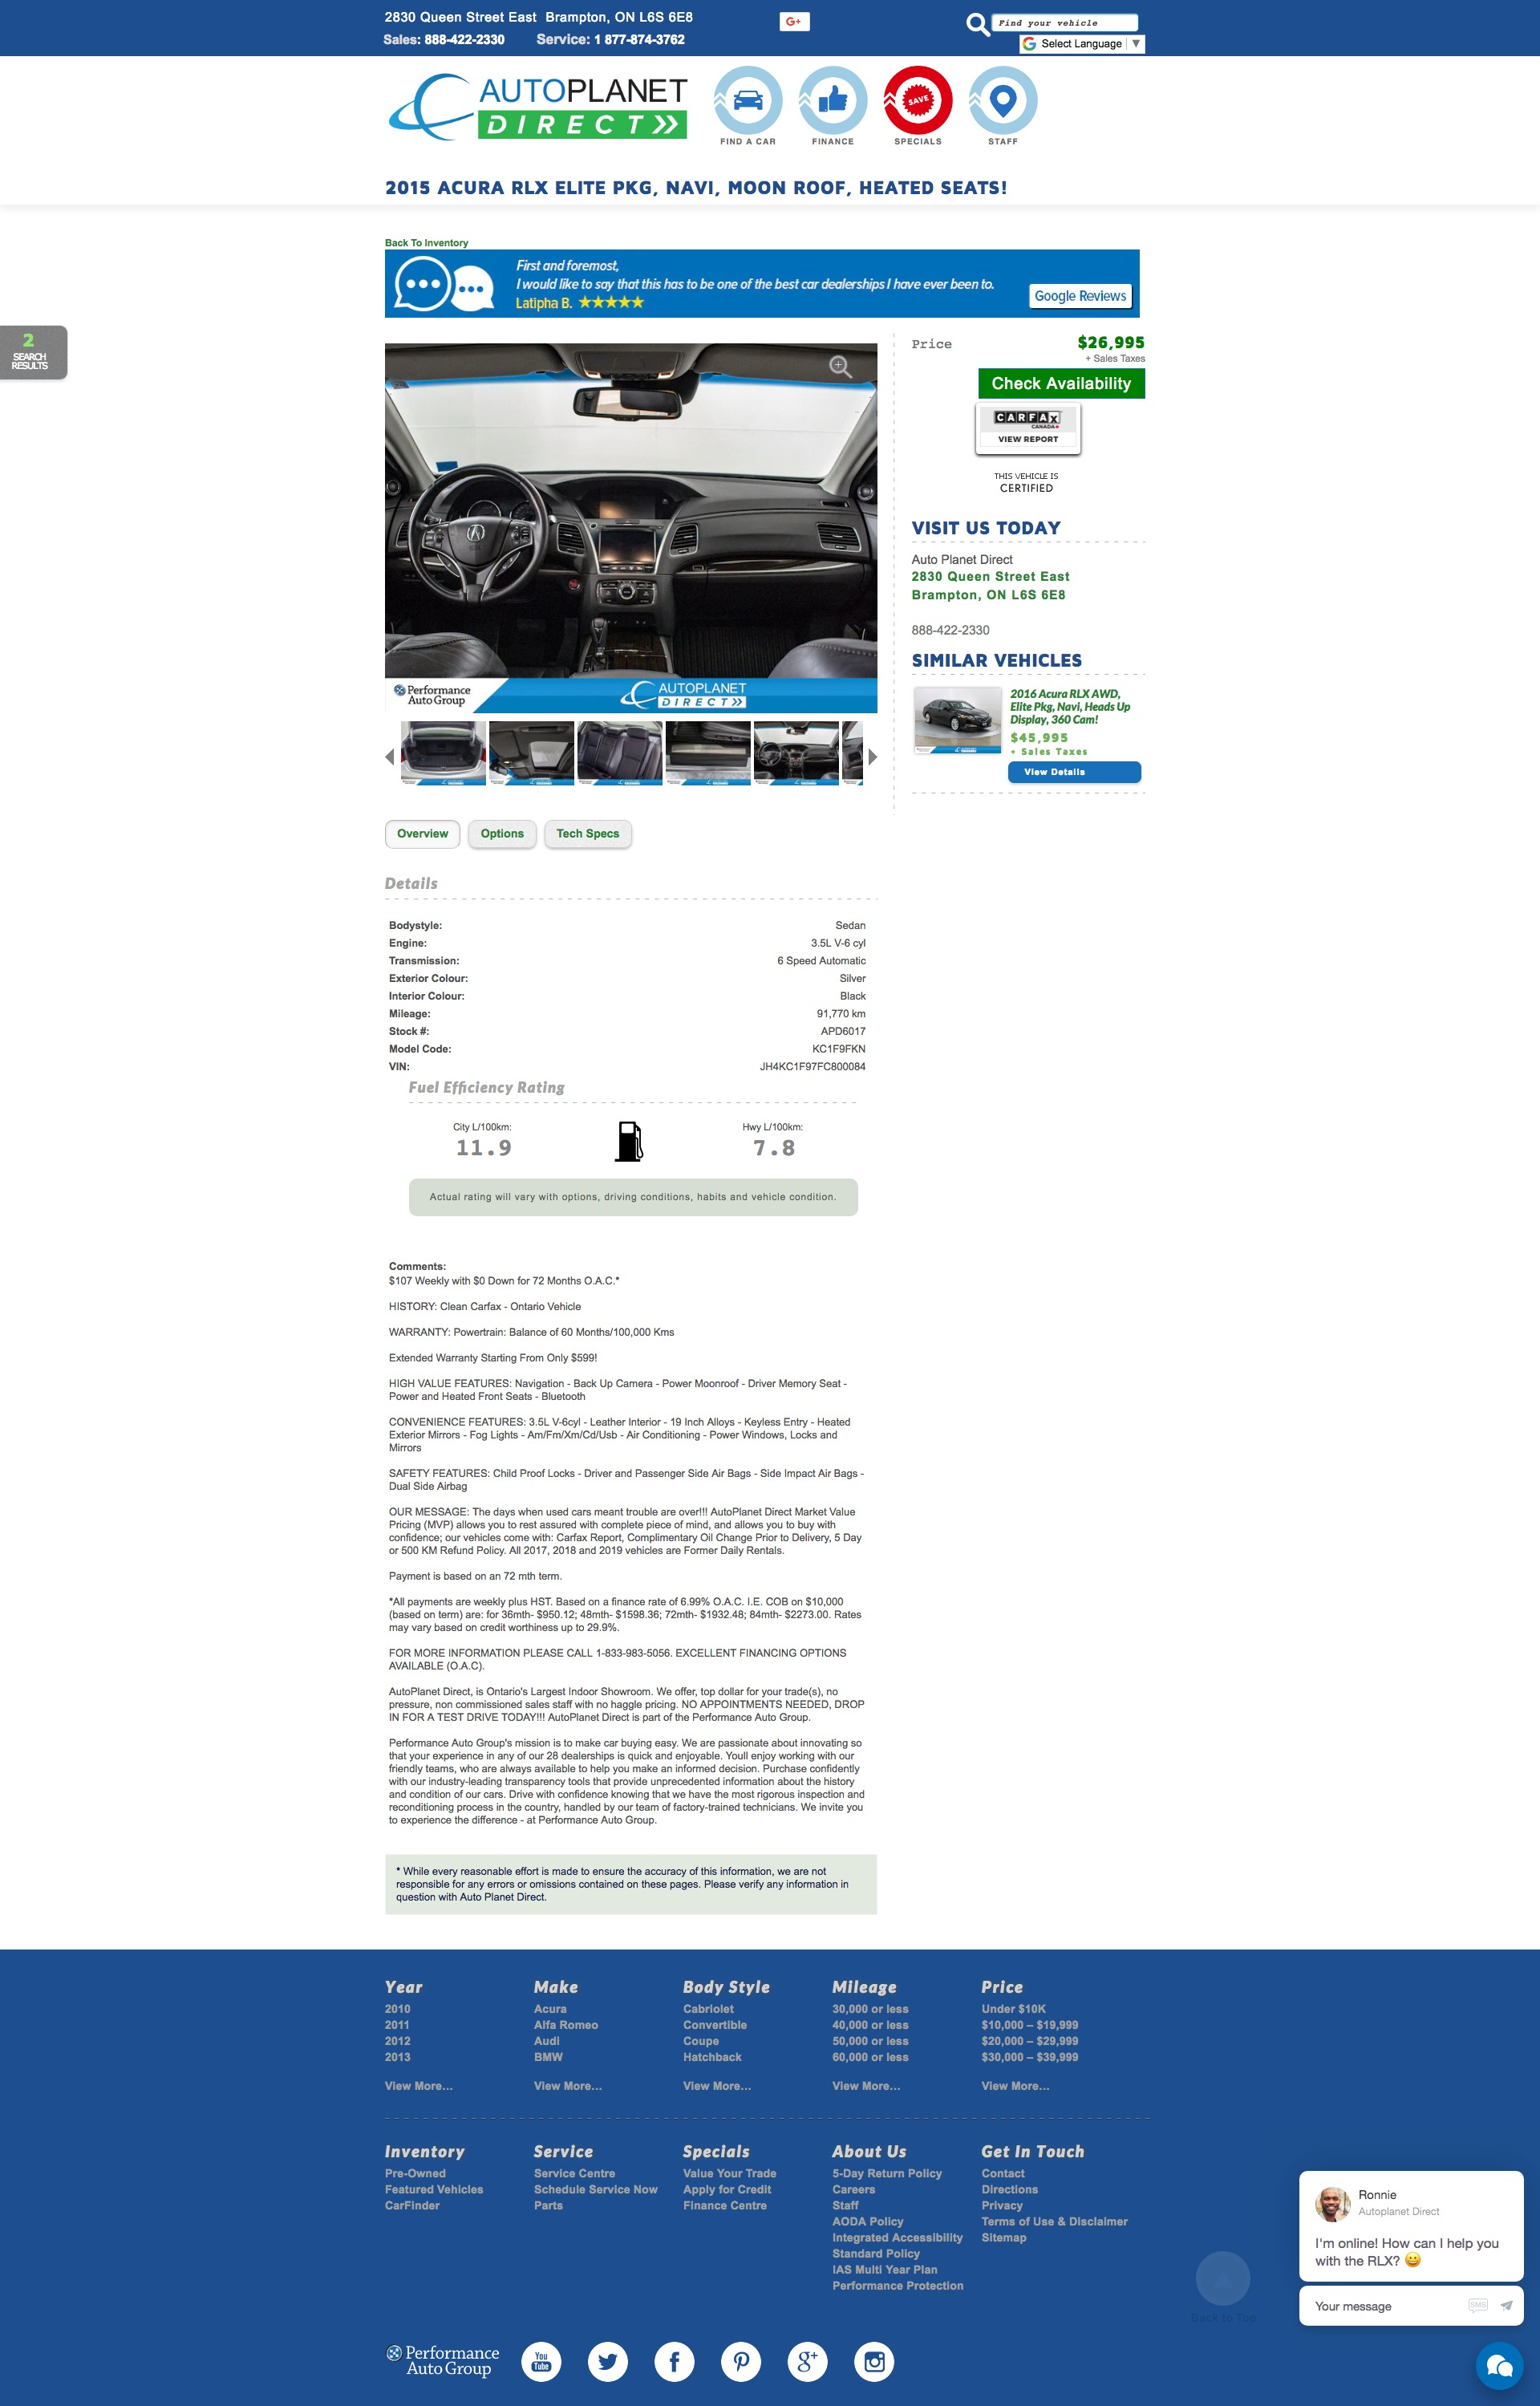car: (868, 747, 879, 768)
